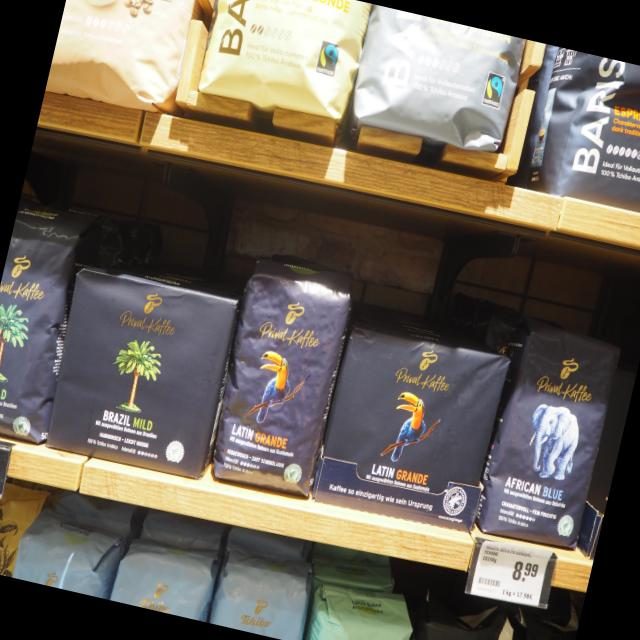AB Bohne: (472, 315, 625, 550)
BM Bohne: (0, 195, 90, 449)
BM Gemahlen: (42, 262, 242, 483)
LG Bohne: (207, 252, 360, 501)
LG Gemahlen: (308, 312, 511, 531)
